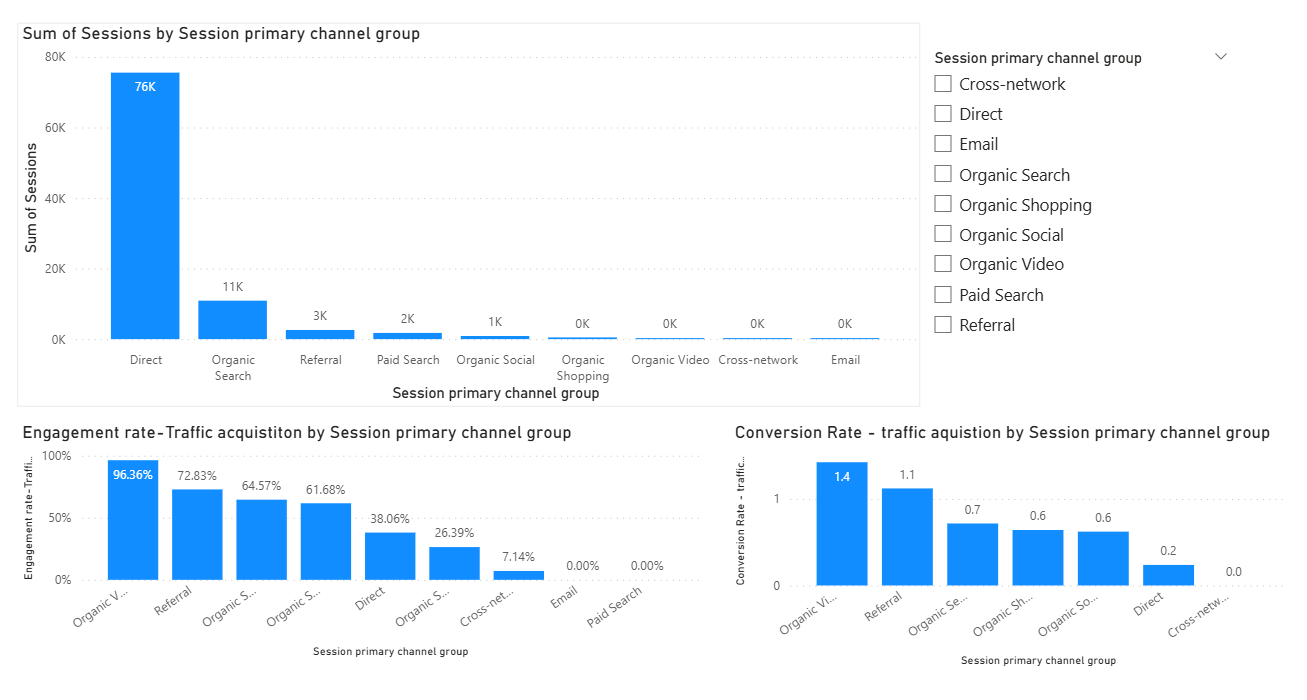

Layout of this report page (visuals, bound fields, positions):
{"tool":"powerbi","page":{"name":"Traffic Acquistion","canvas":[1280,720],"ordinal":1},"visuals":[{"type":"columnChart","fields":{"Category":["Traffic acqistion.Session primary channel group"],"Y":["Sum(Traffic acqistion.Sessions)"]},"box":[25.3,27.7,872,370.3],"z":0},{"type":"columnChart","fields":{"Y":["Age.Engagement rate-Traffic acquistiton"],"Category":["Traffic acqistion.Session primary channel group"]},"box":[25.3,412.5,663.3,232.8],"z":1000},{"type":"columnChart","fields":{"Y":["Age.Conversion Rate - traffic aquistion"],"Category":["Traffic acqistion.Session primary channel group"]},"box":[712.8,412.5,542.7,241.2],"z":2000},{"type":"slicer","fields":{"Values":["Traffic acqistion.Session primary channel group"]},"box":[897.1,48.6,308.6,297.1],"z":3000}]}

Visuals, with their boxes on the page's 1280x720 design canvas (x1, y1, x2, y2). These are canvas units, not pixel positions in the 1307x700 screenshot, which may show the page scaled, cropped or inside an application window:
columnChart - Traffic acqistion.Session primary channel group x Sum(Traffic acqistion.Sessions): [25, 28, 897, 398]
columnChart - Age.Engagement rate-Traffic acquistiton x Traffic acqistion.Session primary channel group: [25, 412, 689, 645]
columnChart - Age.Conversion Rate - traffic aquistion x Traffic acqistion.Session primary channel group: [713, 412, 1256, 654]
slicer - Traffic acqistion.Session primary channel group: [897, 49, 1206, 346]
